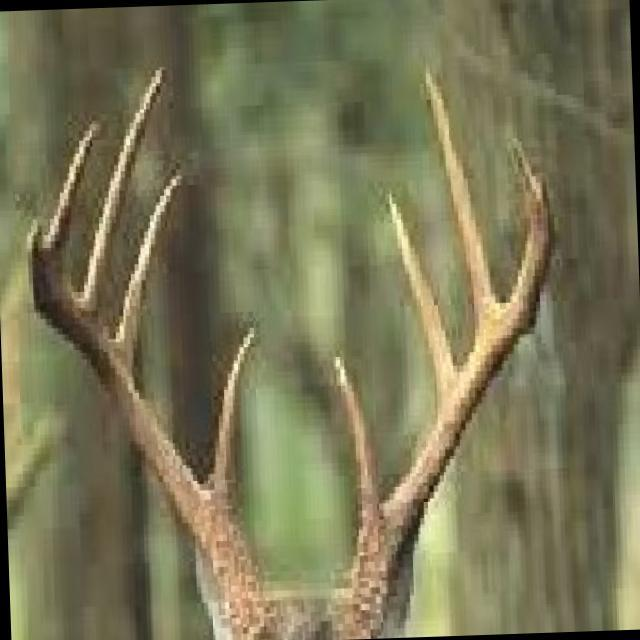L-F: (344, 141, 553, 636)
L-G1: (333, 355, 379, 535)
L-G2: (389, 192, 457, 409)
L-G3: (424, 66, 496, 328)
R-F: (25, 218, 265, 640)
R-G1: (205, 326, 255, 519)
R-G2: (111, 167, 183, 373)
R-G3: (72, 66, 164, 320)
R-G4: (45, 116, 103, 284)
